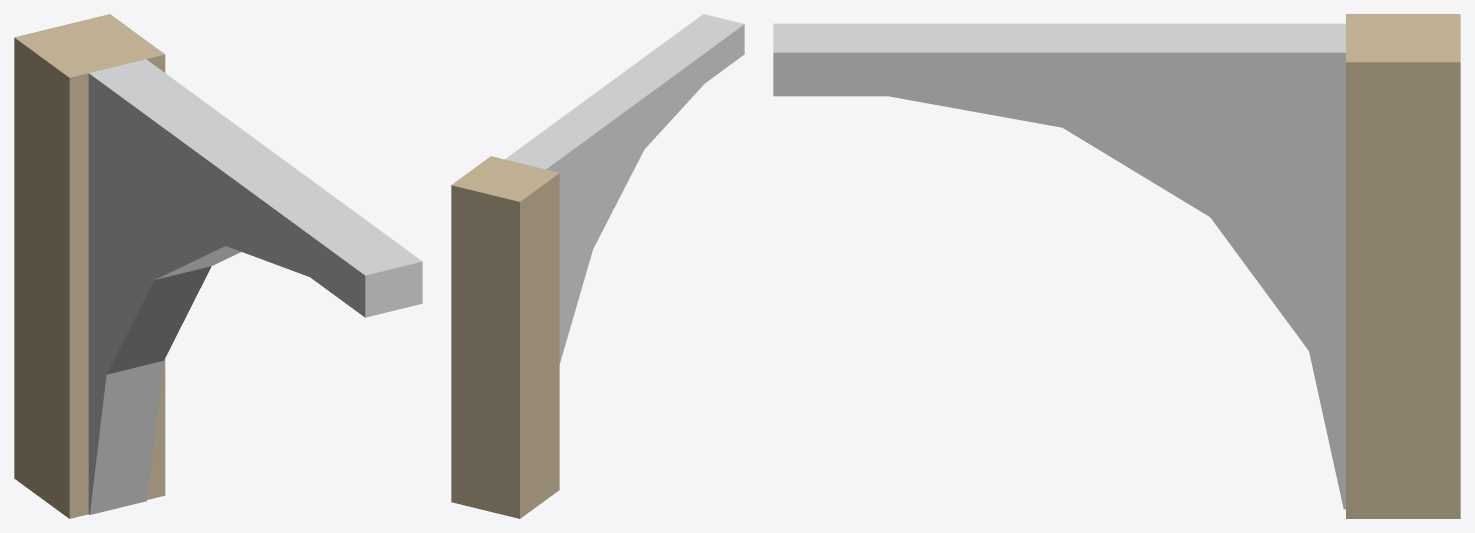
The model's file is Wood_Arch_01.glb.
The picture shows the model from 3 angles, left to right: view 1: azimuth 30°, elevation 25°; view 2: azimuth 150°, elevation 25°; view 3: azimuth 270°, elevation 25°; orthographic projection. The views are drawn at different scales.
Visible parts, largest first — view 1: Mesh1 Wood_Arch Model; view 2: Mesh1 Wood_Arch Model; view 3: Mesh1 Wood_Arch Model.
Part boxes in pixels (x1,y1,x2,y2): Mesh1 Wood_Arch Model: [14, 14, 422, 518]; Mesh1 Wood_Arch Model: [451, 14, 744, 518]; Mesh1 Wood_Arch Model: [773, 14, 1460, 518].
Bounding box in the file's own units: 0.5 × 2.2 × 3.
